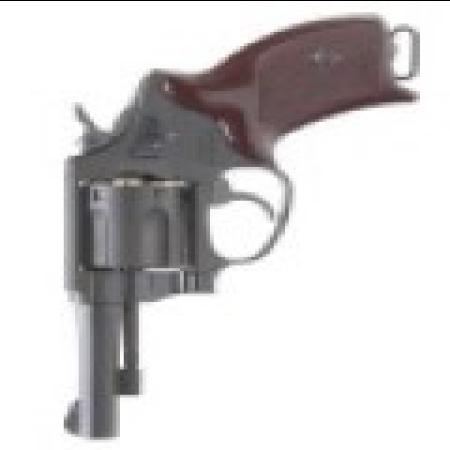Pistol: (52, 9, 416, 441)
